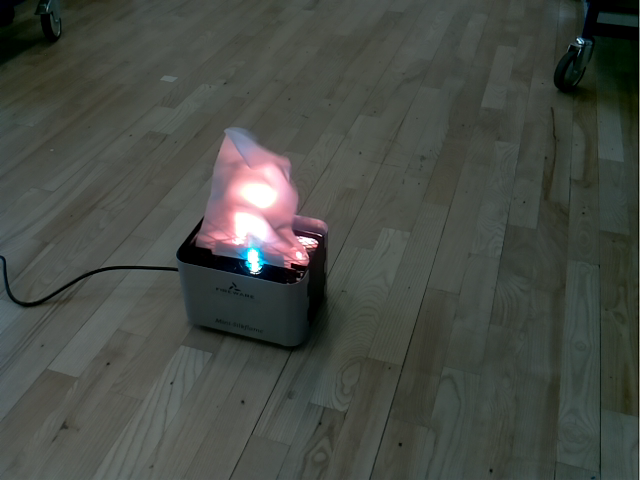fire: (195, 128, 309, 269)
